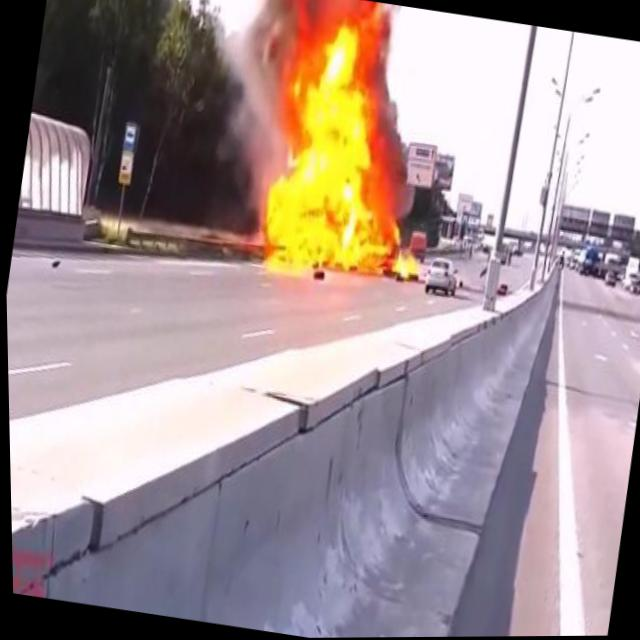fire: (237, 0, 457, 290)
